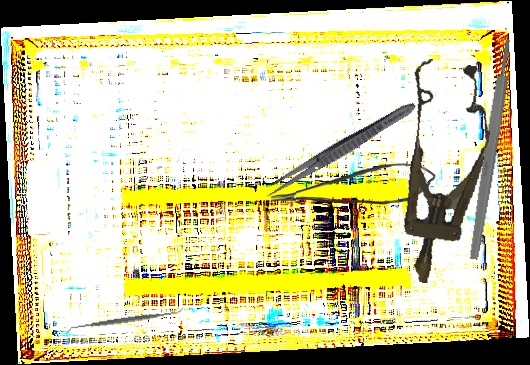Dressing Forceps: (261, 97, 420, 202)
Micro Scissor: (270, 161, 437, 207)
Scalpel Handle: (467, 38, 515, 261)
Spatula Surgical: (64, 305, 185, 336)
Speculum: (380, 56, 500, 290)
